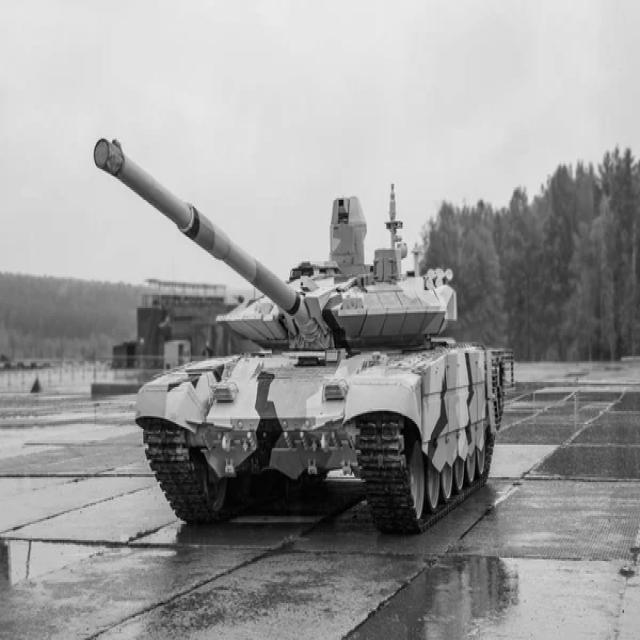Tank: (84, 124, 518, 535)
